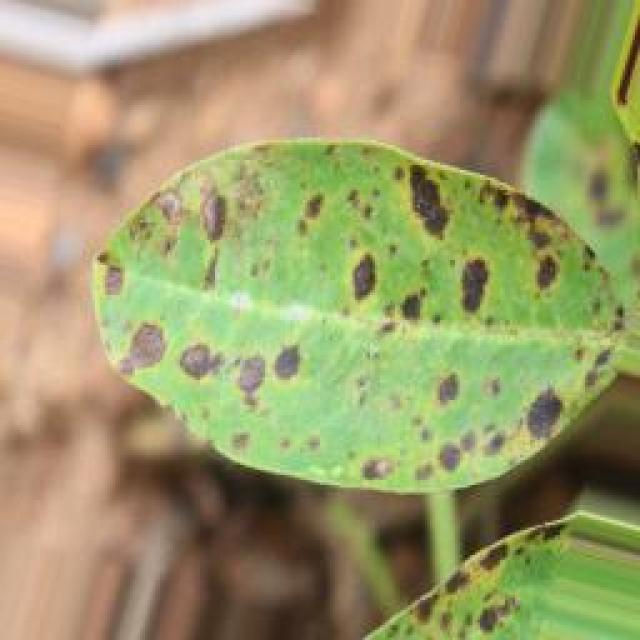Yellowish: (105, 118, 619, 513), (322, 518, 560, 640)
